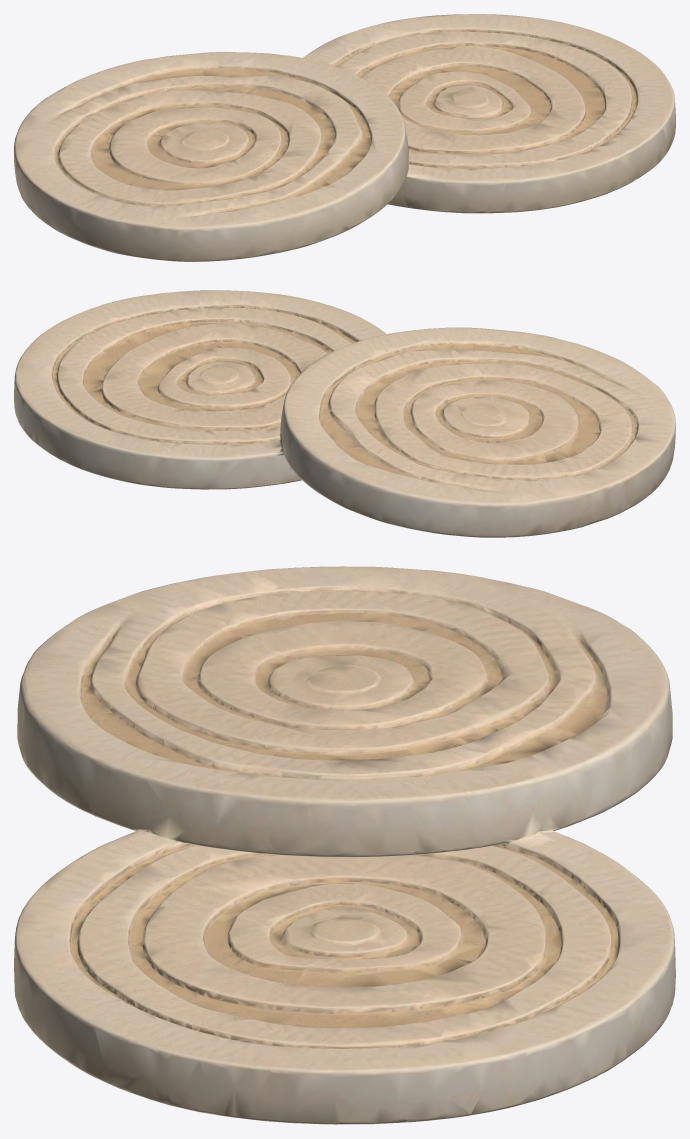
Rendered from onion.glb.
3 views of the same model, one above another, from view 1: azimuth 30°, elevation 25°; view 2: azimuth 150°, elevation 25°; view 3: azimuth 270°, elevation 25° (orthographic). The views are drawn at different scales.
Bounding box in the file's own units: 1.9 × 0.2026 × 1.1.
Materials: 1 (1 with a texture image).
